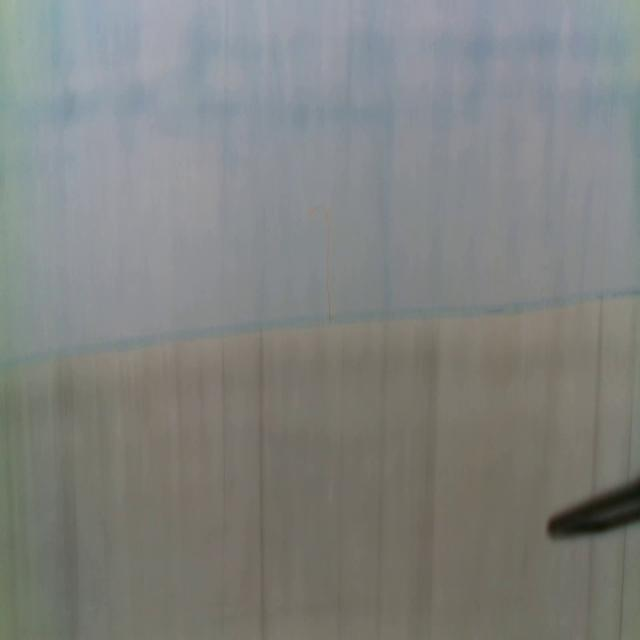color bleeding: (1, 12, 640, 149)
crease: (589, 301, 607, 485), (257, 329, 267, 640), (220, 339, 231, 529), (616, 530, 628, 636), (626, 391, 636, 478)
